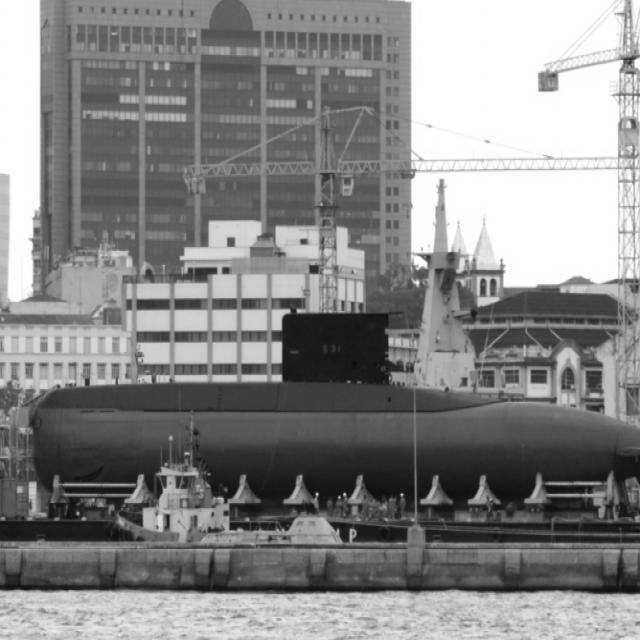submarine: (30, 299, 640, 493)
